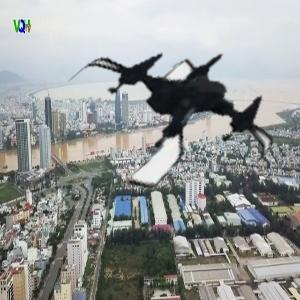drone: (83, 16, 276, 209)
